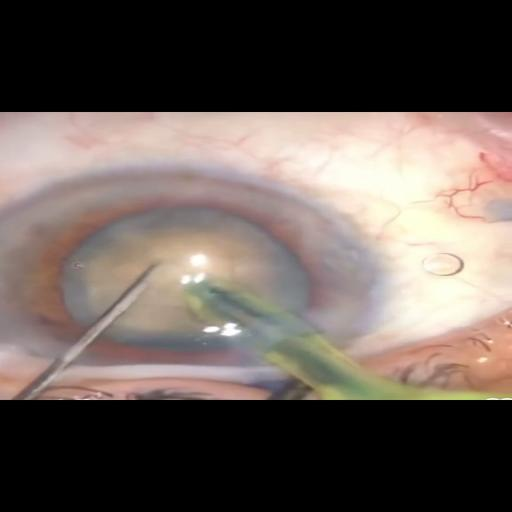catarata: (50, 207, 296, 358)
cornea: (0, 157, 412, 379)
pupil: (14, 194, 335, 362)
